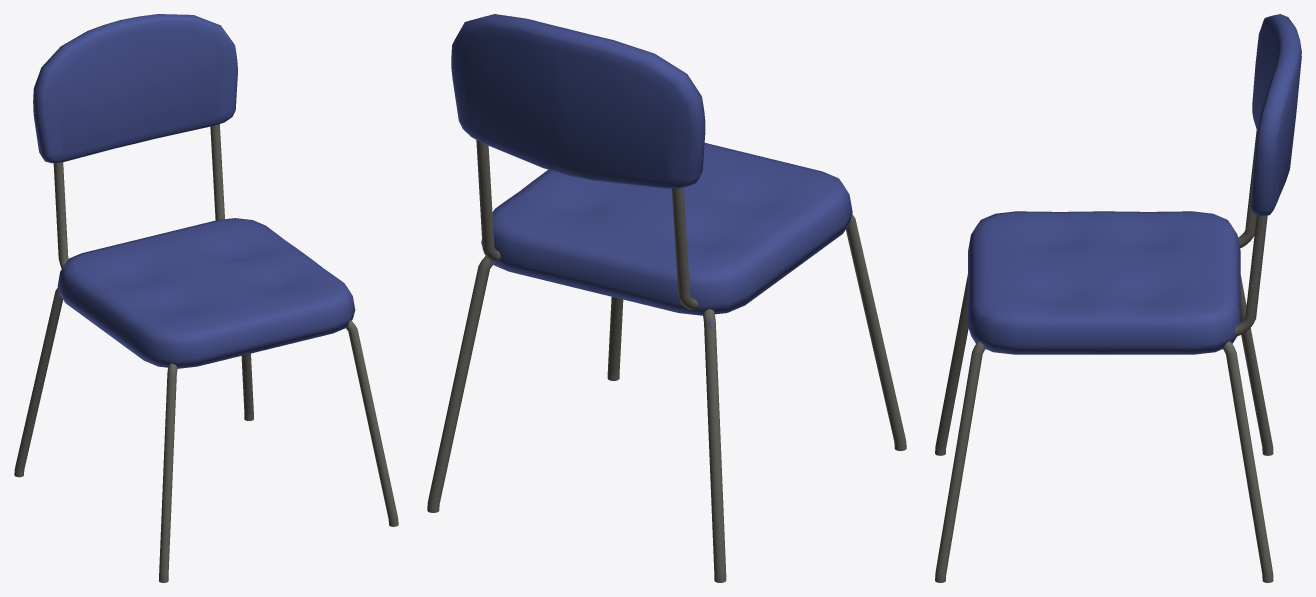
Rendered from sillaAzul.fbx.
The picture shows the model from 3 angles, left to right: view 1: azimuth 30°, elevation 25°; view 2: azimuth 150°, elevation 25°; view 3: azimuth 270°, elevation 25°; orthographic projection. The views are drawn at different scales.
Visible parts, largest first — view 1: soporte respaldo; view 2: soporte respaldo; view 3: soporte respaldo.
Part boxes in pixels (x1=…): soporte respaldo: x1=14, y1=14, x2=398, y2=582; soporte respaldo: x1=427, y1=14, x2=906, y2=582; soporte respaldo: x1=935, y1=14, x2=1301, y2=582.
Size of the model in its own units: 54.01 by 90.93 by 63.55.
